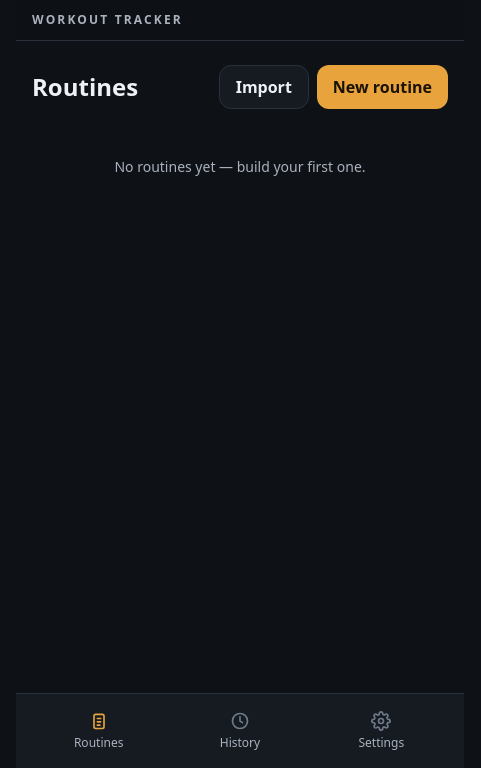
Test: App shell › switches to the History view via the bottom nav
This screenshot has width=481, height=768.
Step 1. Click the button "History" → x=240, y=731, box [173,702,307,760]
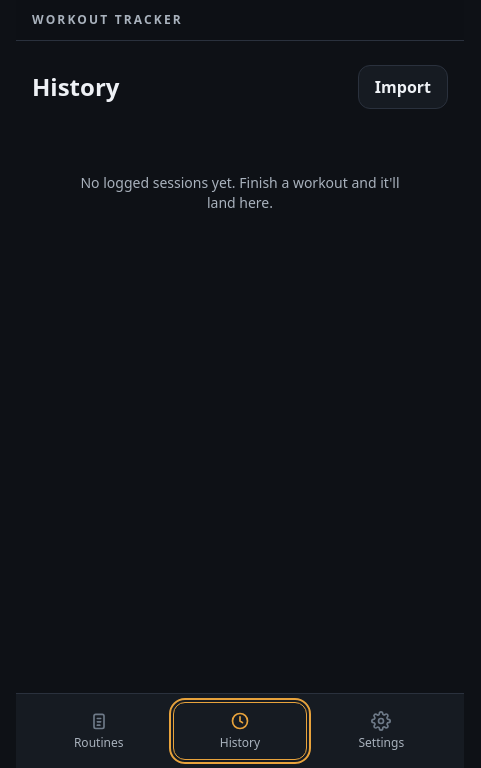
Result: the text "No logged sessions yet. Finish a workout and it'll land here." is shown at [80,173,400,213]
